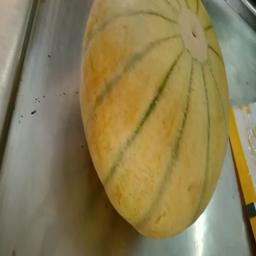Melon Fresh: (73, 0, 247, 250)
